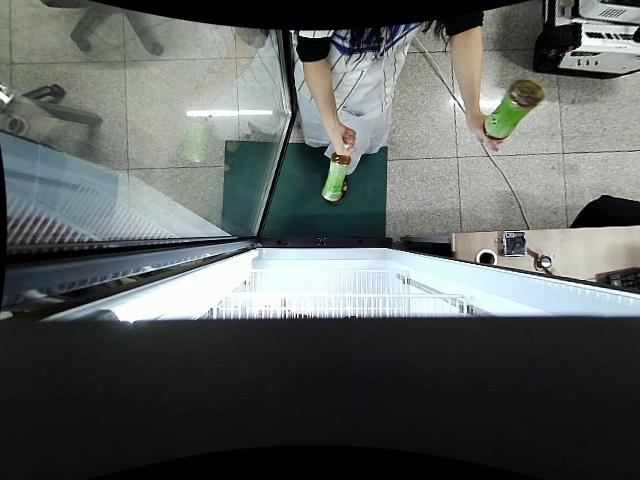00_hand: (468, 109, 505, 153), (329, 121, 358, 159)
19_17cha: (483, 80, 547, 142), (318, 144, 352, 206)
